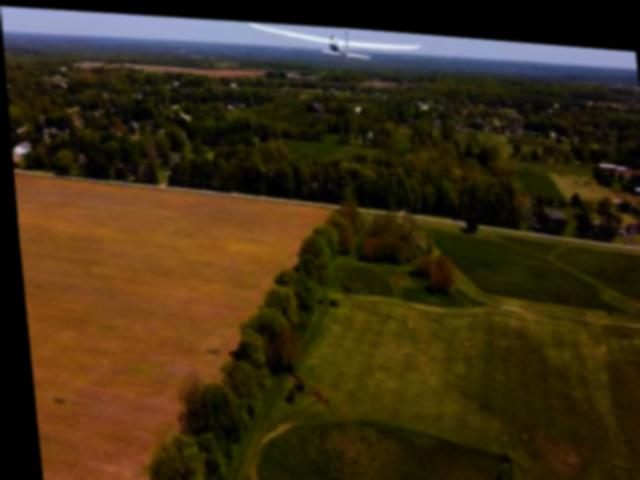uav: (237, 15, 430, 77)
